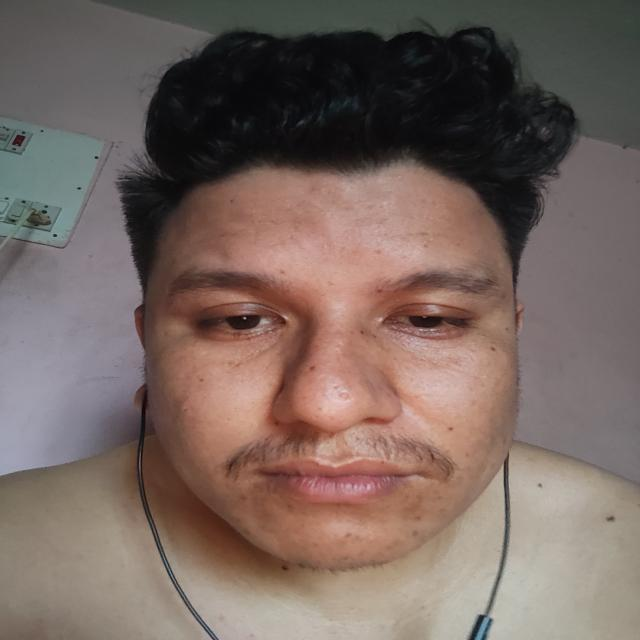Acne: (376, 229, 454, 241), (402, 492, 424, 514), (308, 406, 338, 421), (404, 376, 430, 389), (336, 389, 353, 402), (408, 528, 422, 538), (237, 494, 254, 502), (310, 538, 325, 547), (413, 515, 424, 525), (340, 554, 355, 561), (278, 268, 287, 278), (372, 248, 384, 255), (342, 532, 355, 538)
Englarged-Pores: (180, 406, 189, 416)
Eyebags: (381, 322, 478, 366), (187, 323, 289, 364)
